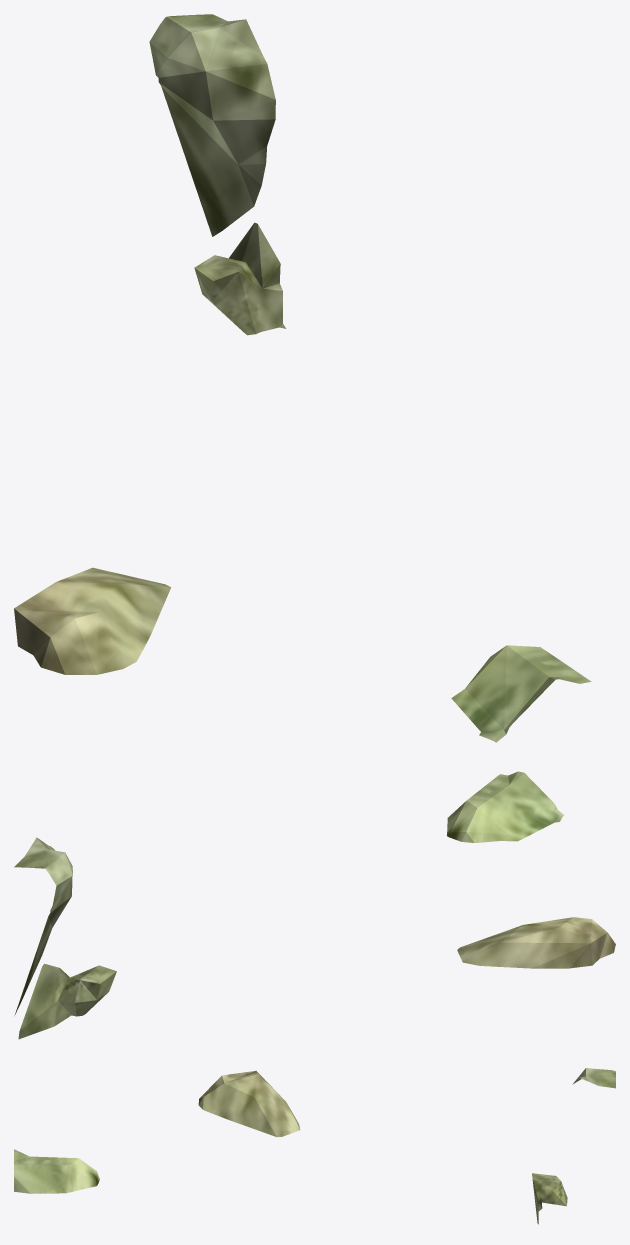
3 views of the same model, one above another, from view 1: azimuth 30°, elevation 25°; view 2: azimuth 150°, elevation 25°; view 3: azimuth 270°, elevation 25° (orthographic). The views are drawn at different scales.
Size of the model in its own units: 1.64 by 0.8285 by 2.95.
1 material, 1 textured.
